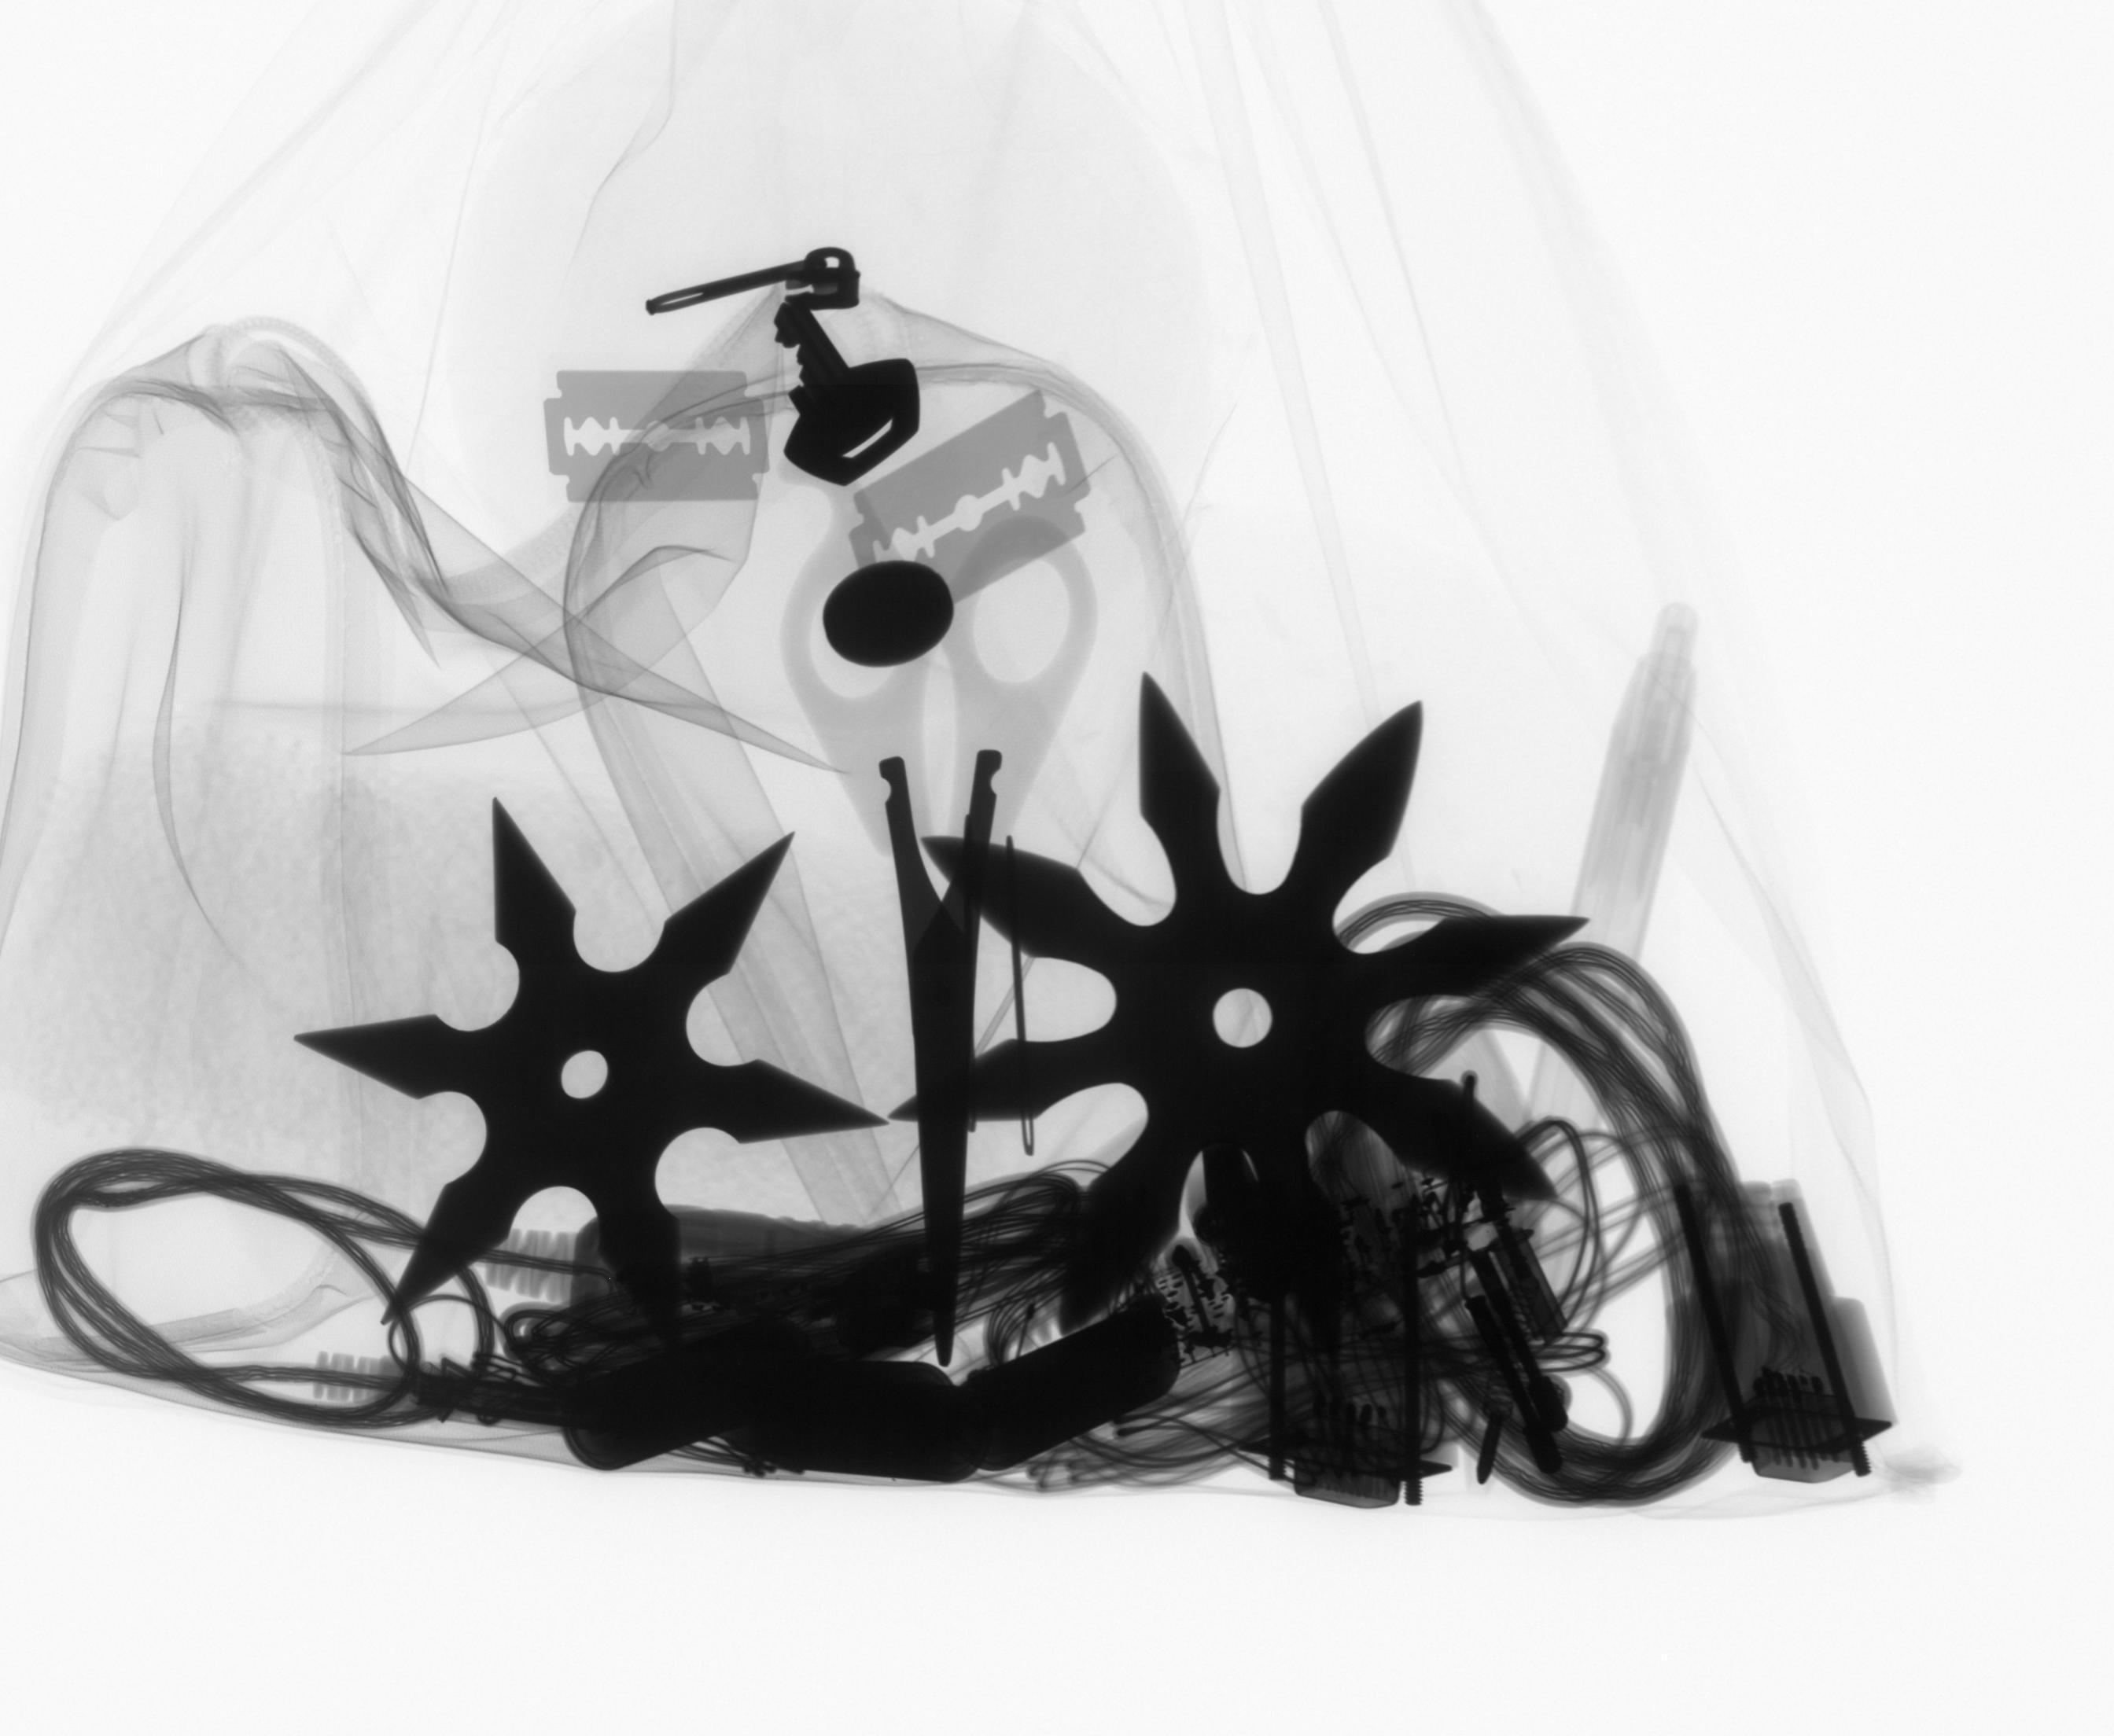RazorBlade: (830, 386, 1101, 618), (527, 360, 778, 523)
Shuriken: (899, 685, 1585, 1246), (274, 776, 876, 1313)
